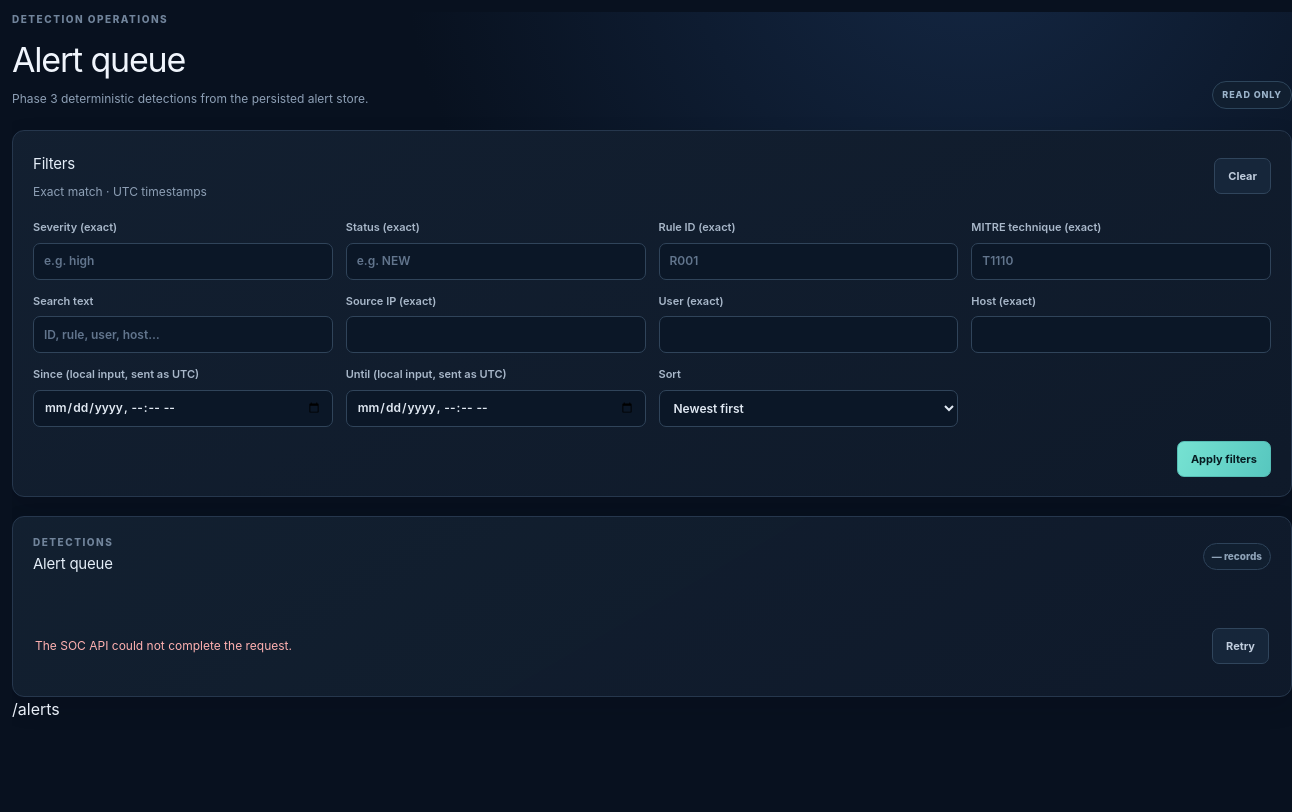
Test: Phase 8A dashboard › renders empty alert state and retries an API failure safely
Expected: the message shows "The SOC API could not complete the request.", [35, 638, 292, 653]
Click the button "Retry": (1240, 646) [1212, 628, 1269, 664]
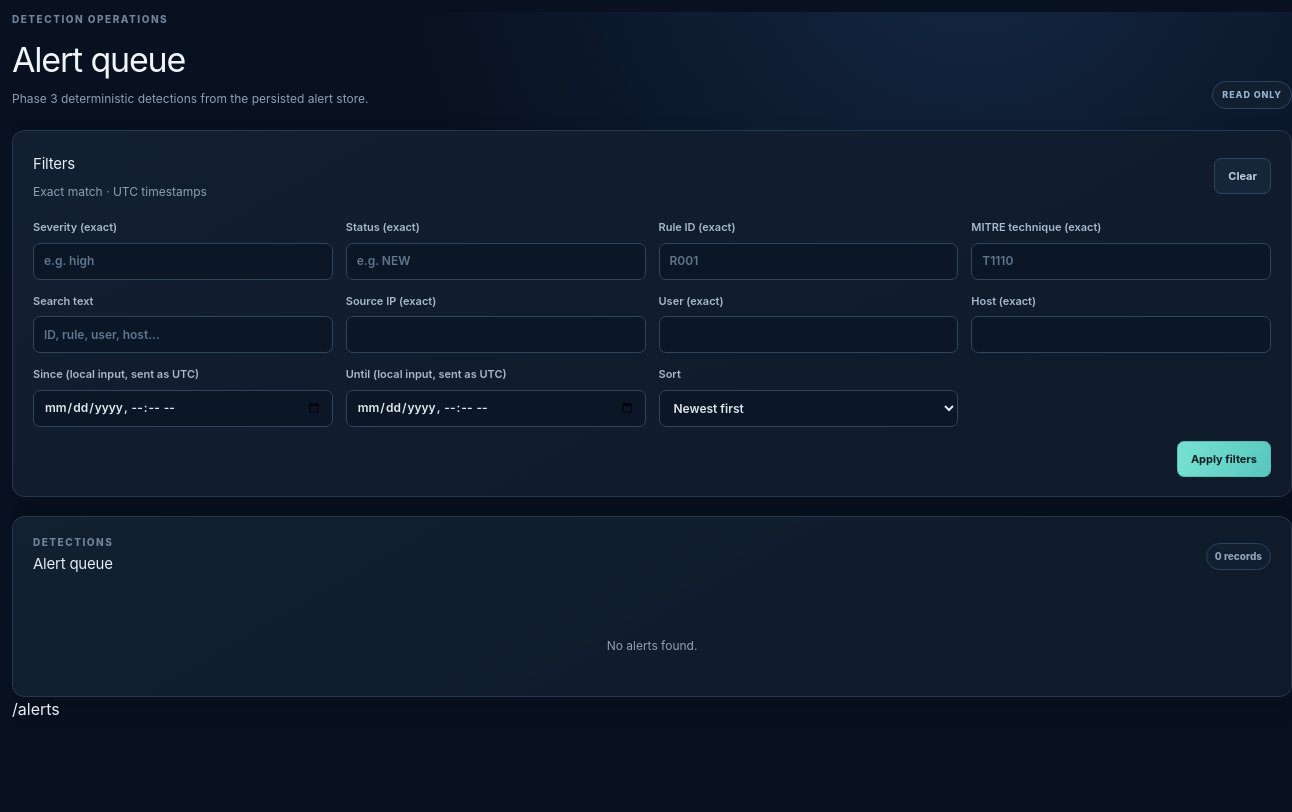
Expected: the text "No alerts found." is shown, [607, 638, 697, 653]
